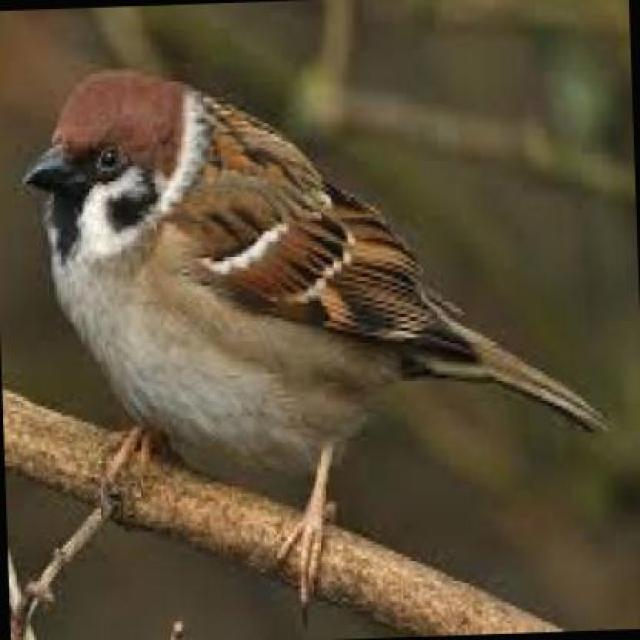Bird: (13, 69, 520, 631)
